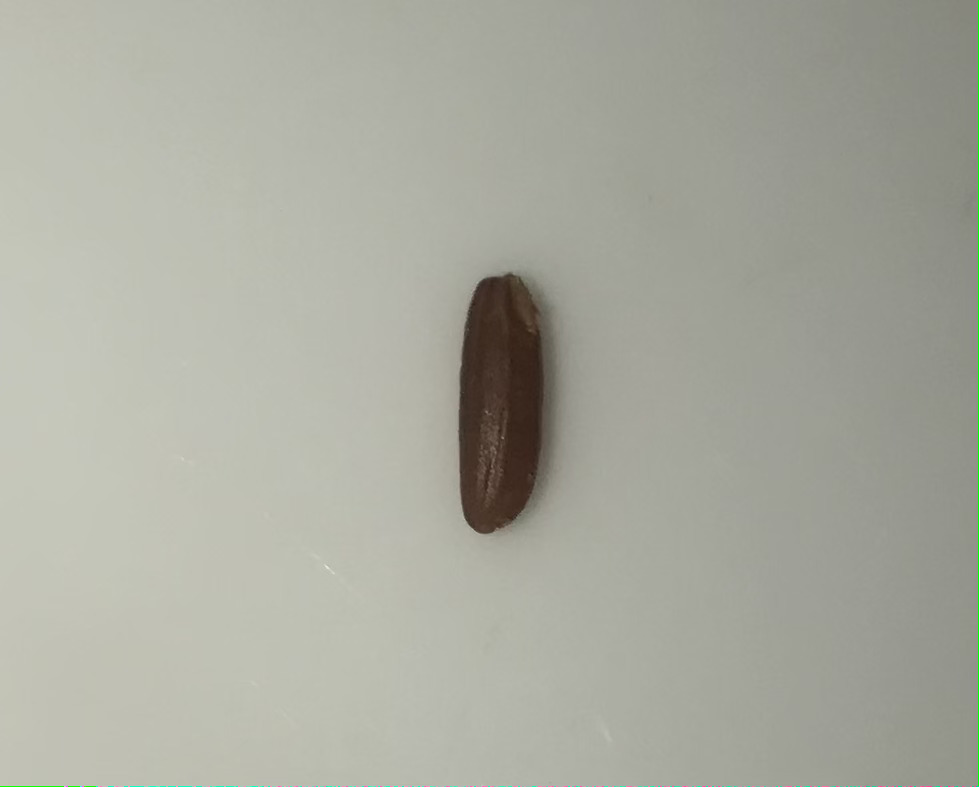Gao Huyet Rong: (452, 273, 549, 535)
